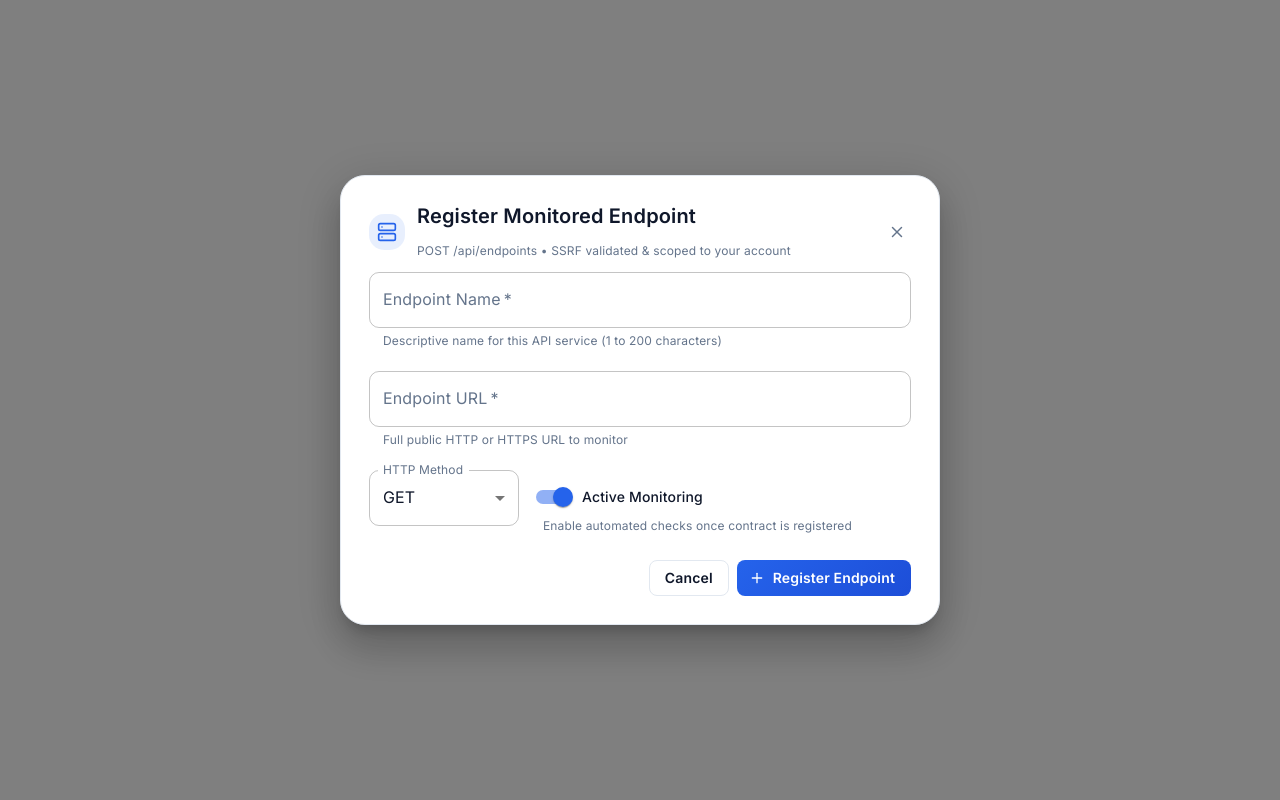
AddEndpointDialog › validates required fields before submitting
Click the button with test id "submit-endpoint-btn" at (824, 578), box [737,560,911,596]
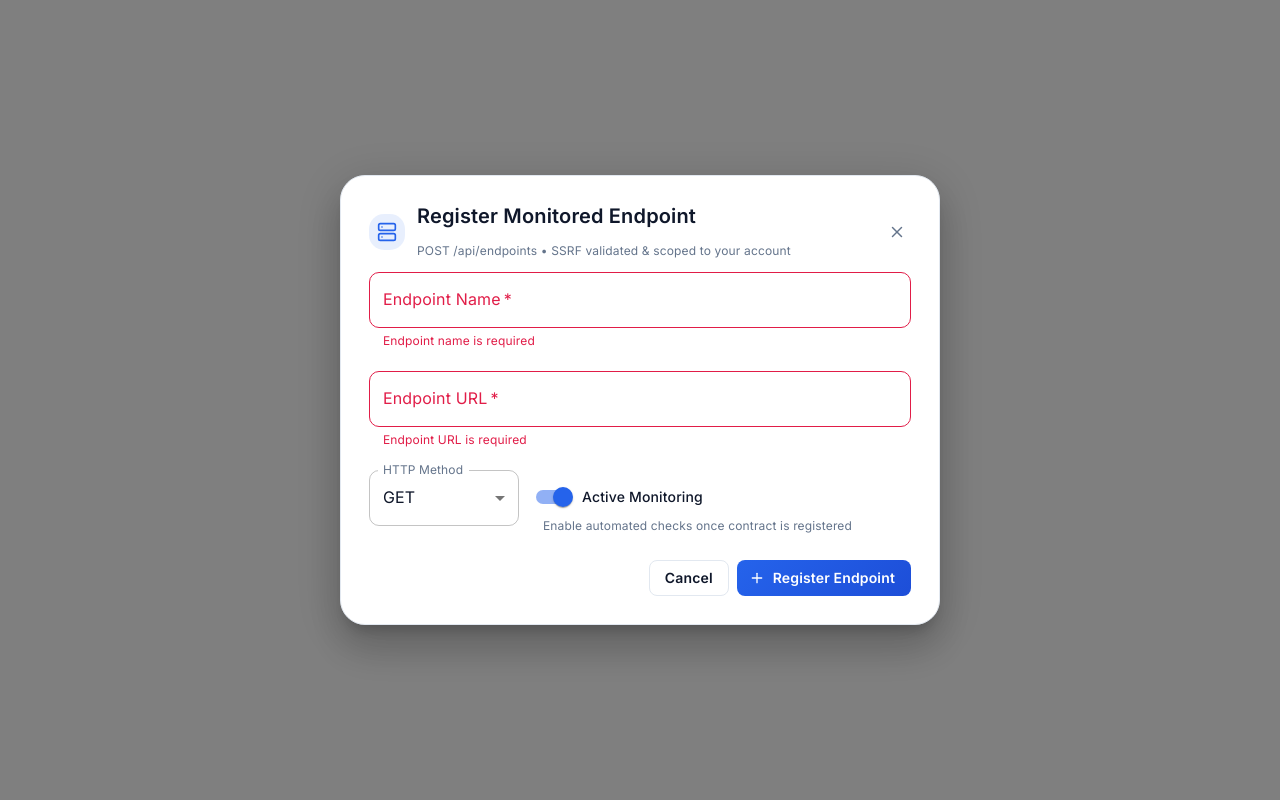
Now the text "Endpoint name is required" is shown, box [383,333,535,348]
Now the text "Endpoint URL is required" is shown, box [383,432,527,447]
